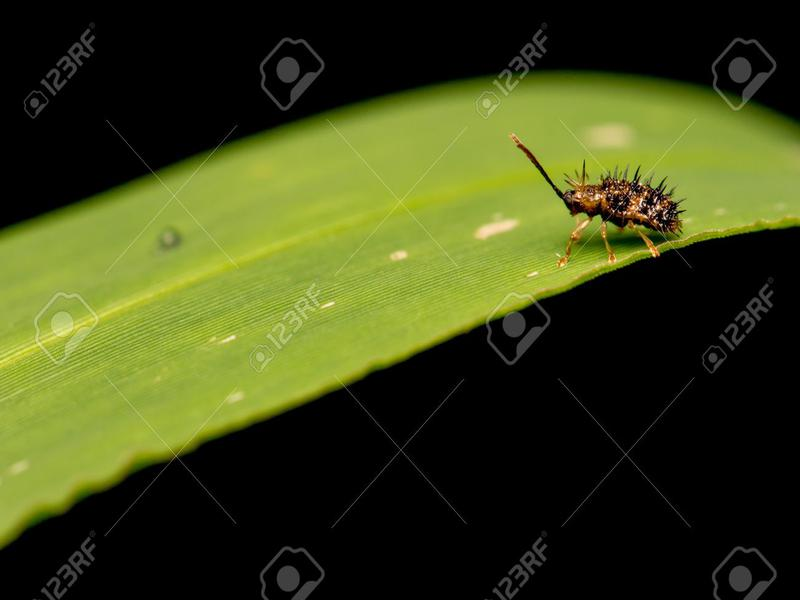Spiny_beetle: (511, 144, 710, 254)
